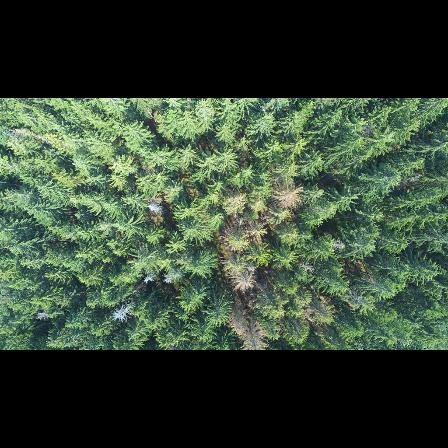Dead: (230, 305, 269, 349), (274, 179, 305, 207), (111, 297, 136, 327), (231, 271, 255, 291), (143, 199, 164, 219), (141, 270, 158, 285), (298, 261, 315, 274), (334, 237, 346, 253)
